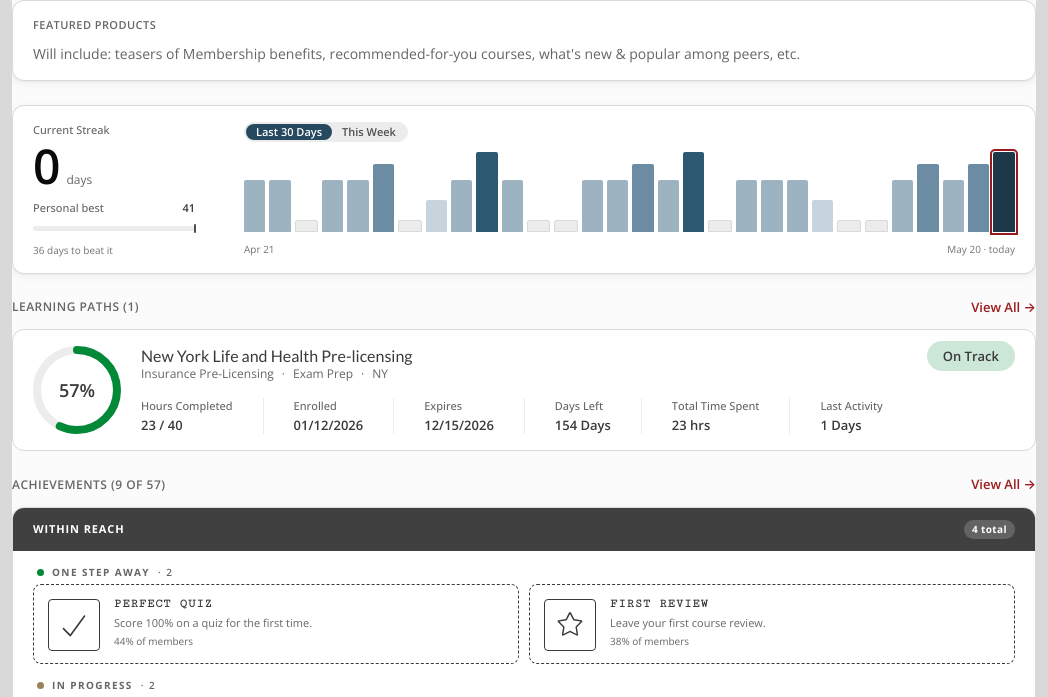
Test case: StreakHeroCard › renders the streak hero with both activity-mode tabs
Check: the text "Current Streak" is shown, box [33,122,110,136]
Check: the list named "daily activity intensity for the last 30 days" is shown, box [244,152,1015,232]
What coordinates should you click on to do the following:
click the tab "This Week"
I would click on:
 (369, 132)
Its box is [332,124,406,140].
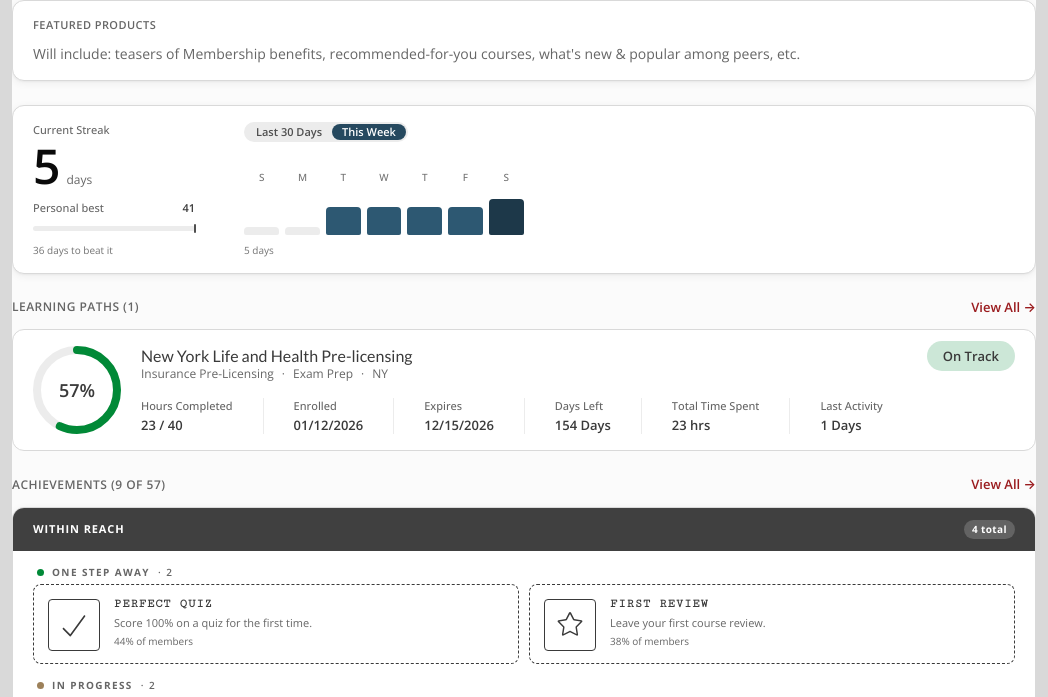
Check: the element "Last 30 Days This Week S M T W T F S 5 days" is shown, box [244,122,524,256]
